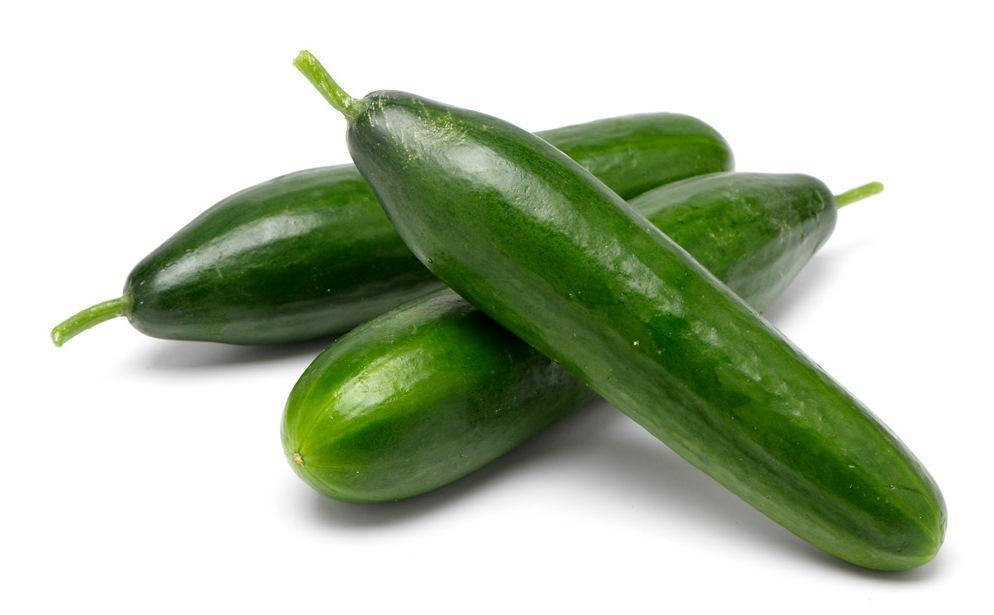cucumber: (290, 48, 948, 572)
